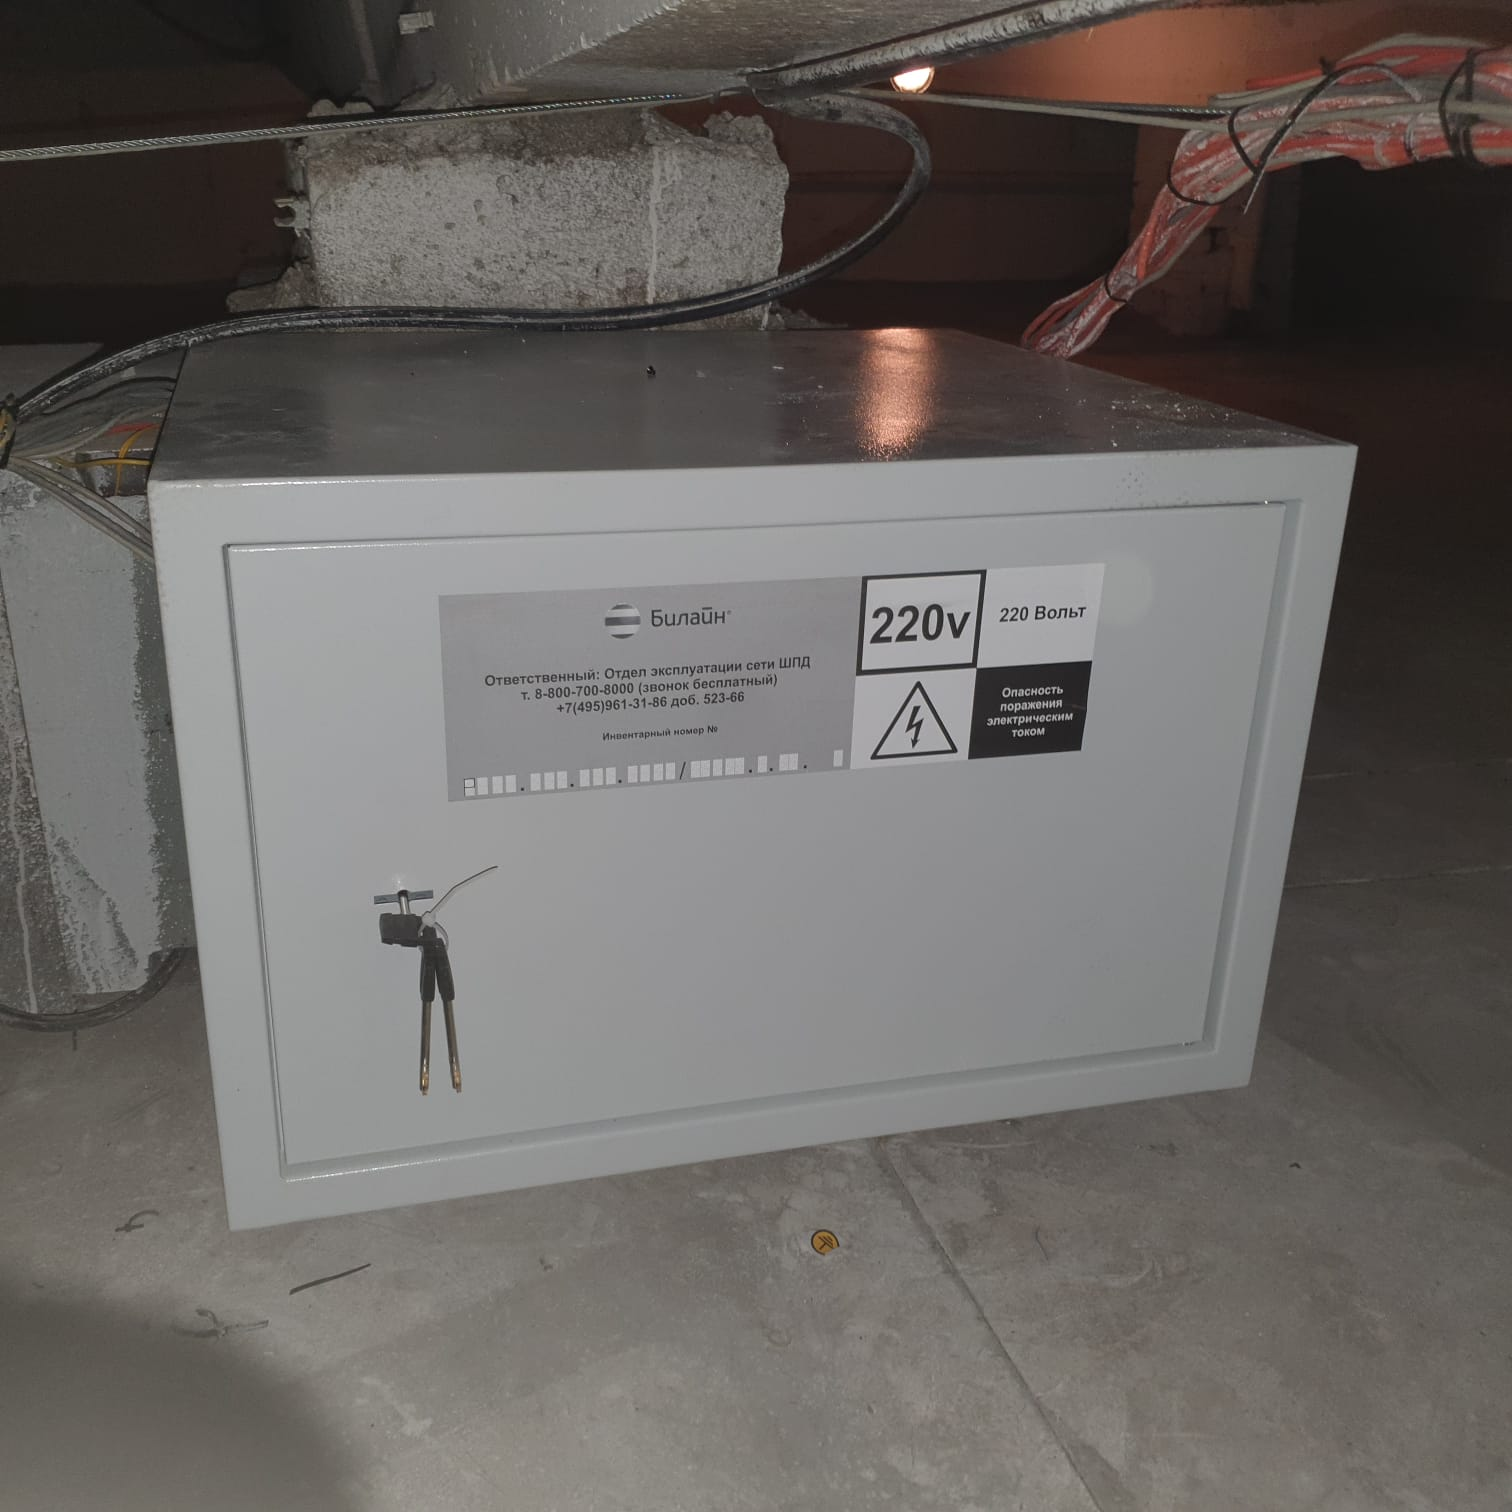shta-7m: (132, 318, 1369, 1239)
